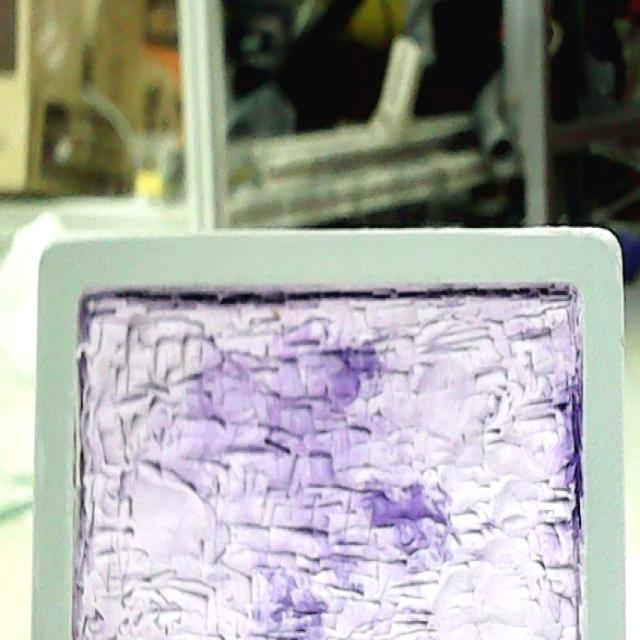block: (26, 229, 627, 640)
